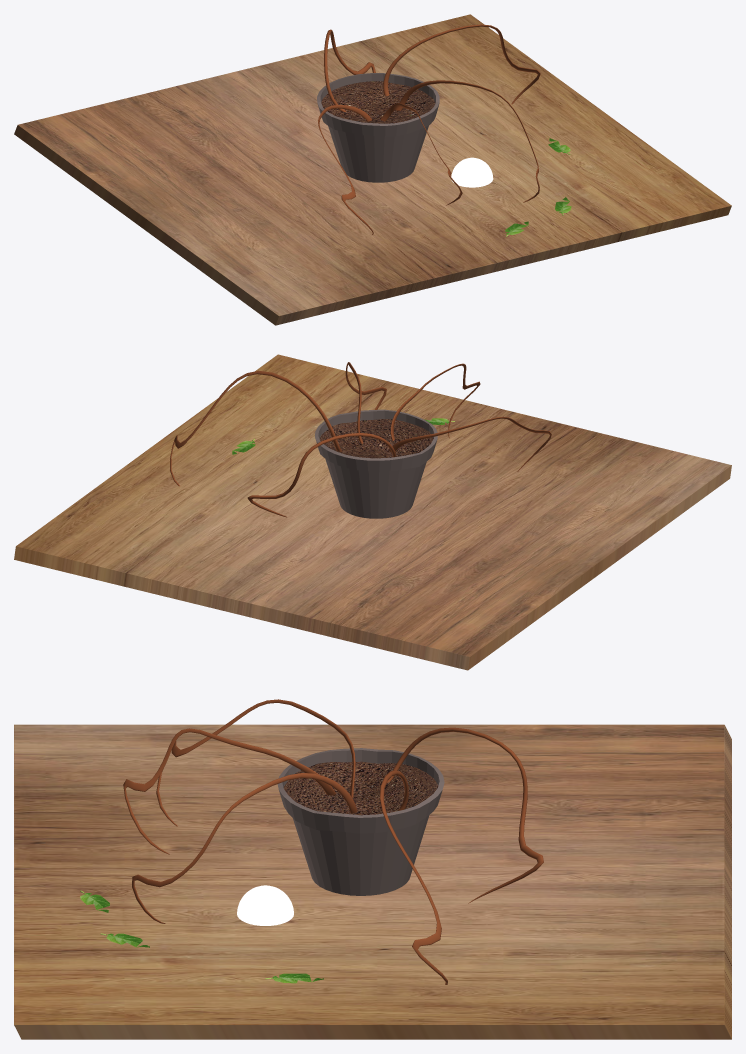
File: floatingplant.glb
3 renders of one model, top to bottom at view 1: azimuth 30°, elevation 25°; view 2: azimuth 150°, elevation 25°; view 3: azimuth 270°, elevation 25°, orthographic. The views are drawn at different scales.
Parts seen in each view (by area): view 1: Plane, Cashop, Ground, Sphere, Plant.001, Plant.002, Plant, Plant.003; view 2: Plane, Cashop, Ground, Plant.001, Plant, Plant.003, Plant.004, Plant.002; view 3: Plane, Cashop, Ground, Sphere, Plant, Plant.004, Plant.002, Plant.001, Plant.003.
Boxes of the visible parts, x1=… form: Plane: x1=14, y1=14, x2=731, y2=325; Cashop: x1=317, y1=73, x2=439, y2=182; Ground: x1=321, y1=81, x2=435, y2=123; Sphere: x1=451, y1=157, x2=493, y2=187; Plant.001: x1=383, y1=24, x2=540, y2=104; Plant.002: x1=395, y1=80, x2=539, y2=202; Plant: x1=324, y1=29, x2=375, y2=111; Plant.003: x1=318, y1=105, x2=373, y2=234; Plane: x1=14, y1=354, x2=731, y2=670; Cashop: x1=315, y1=409, x2=437, y2=518; Ground: x1=319, y1=419, x2=433, y2=458; Plant.001: x1=170, y1=370, x2=341, y2=486; Plant: x1=247, y1=433, x2=395, y2=517; Plant.003: x1=389, y1=416, x2=551, y2=471; Plant.004: x1=390, y1=363, x2=480, y2=441; Plant.002: x1=345, y1=362, x2=386, y2=443; Plane: x1=14, y1=724, x2=731, y2=1039; Cashop: x1=277, y1=748, x2=444, y2=895; Ground: x1=283, y1=761, x2=438, y2=815; Sphere: x1=237, y1=885, x2=293, y2=925; Plant: x1=387, y1=727, x2=543, y2=903; Plant.004: x1=123, y1=728, x2=335, y2=854; Plant.002: x1=132, y1=773, x2=357, y2=923; Plant.001: x1=379, y1=770, x2=447, y2=984; Plant.003: x1=156, y1=699, x2=355, y2=826.
Bounding box in the file's own units: 9.05 × 2.51 × 9.13.
14 materials, 7 textured.
